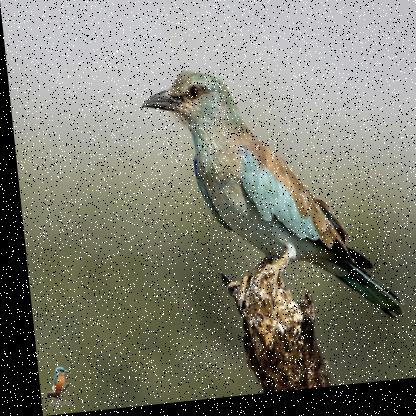Burung: (136, 60, 401, 350)
